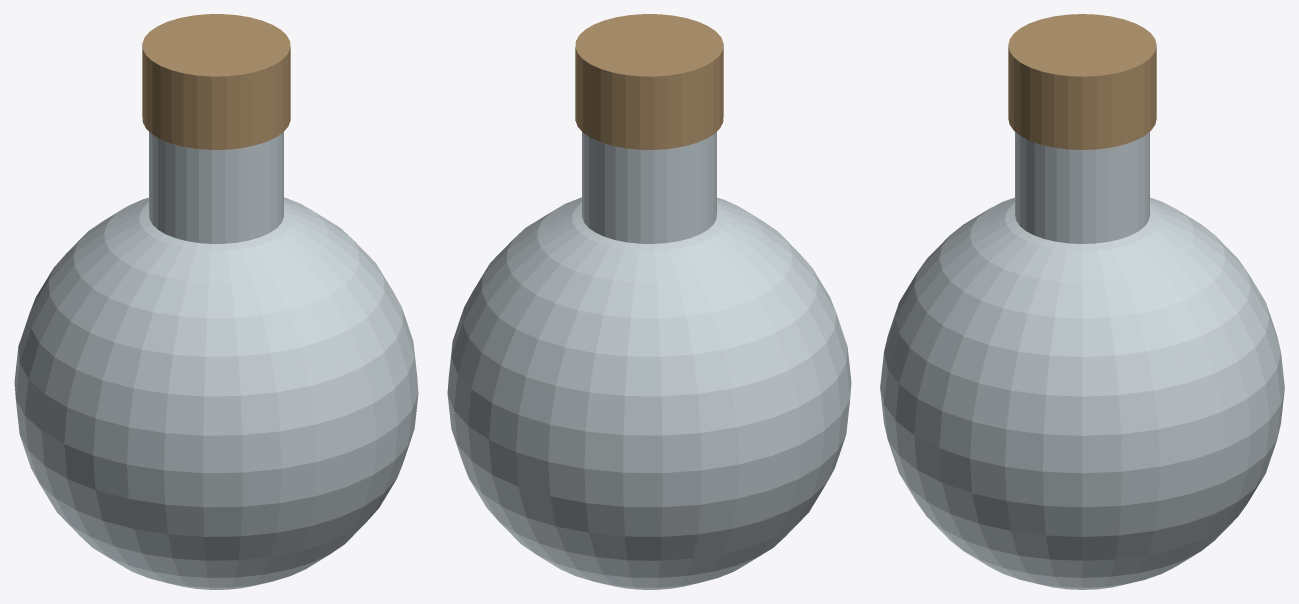
File: potion_flask.glb
3 views of the same model, side by side, from view 1: azimuth 30°, elevation 25°; view 2: azimuth 150°, elevation 25°; view 3: azimuth 270°, elevation 25° (orthographic).
Visible parts, largest first — view 1: FlaskBody, Cilindro.001, Cilindro; view 2: FlaskBody, Cilindro.001, Cilindro; view 3: FlaskBody, Cilindro.001, Cilindro.
Part boxes in pixels (x1,y1,x2,y2): FlaskBody: (14, 197, 418, 589); Cilindro.001: (142, 14, 290, 149); Cilindro: (149, 132, 283, 243); FlaskBody: (447, 197, 851, 589); Cilindro.001: (575, 14, 723, 149); Cilindro: (582, 132, 716, 243); FlaskBody: (880, 197, 1284, 589); Cilindro.001: (1008, 14, 1156, 149); Cilindro: (1015, 132, 1149, 243).
Bounding box in the file's own units: 0.3 × 0.43 × 0.3.
